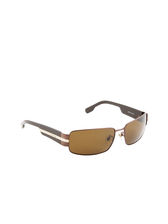glasses: (17, 105, 159, 155)
